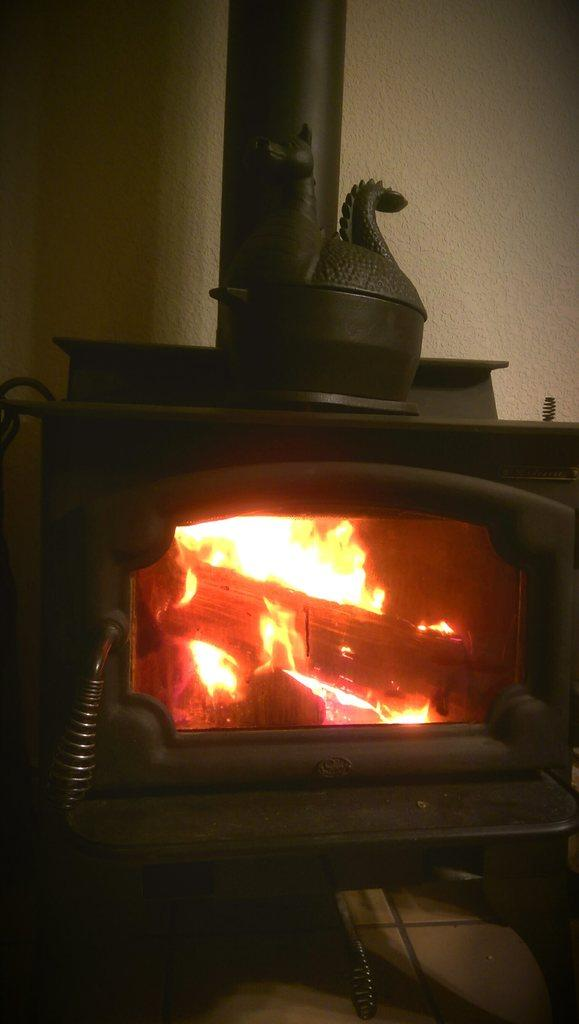Fire: (148, 511, 466, 734)
